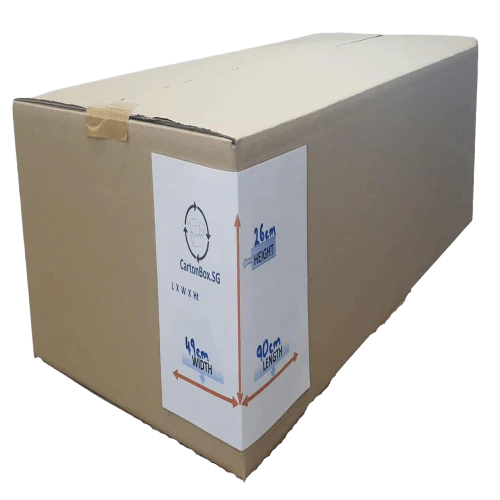bulk_waste: (13, 33, 478, 477)
